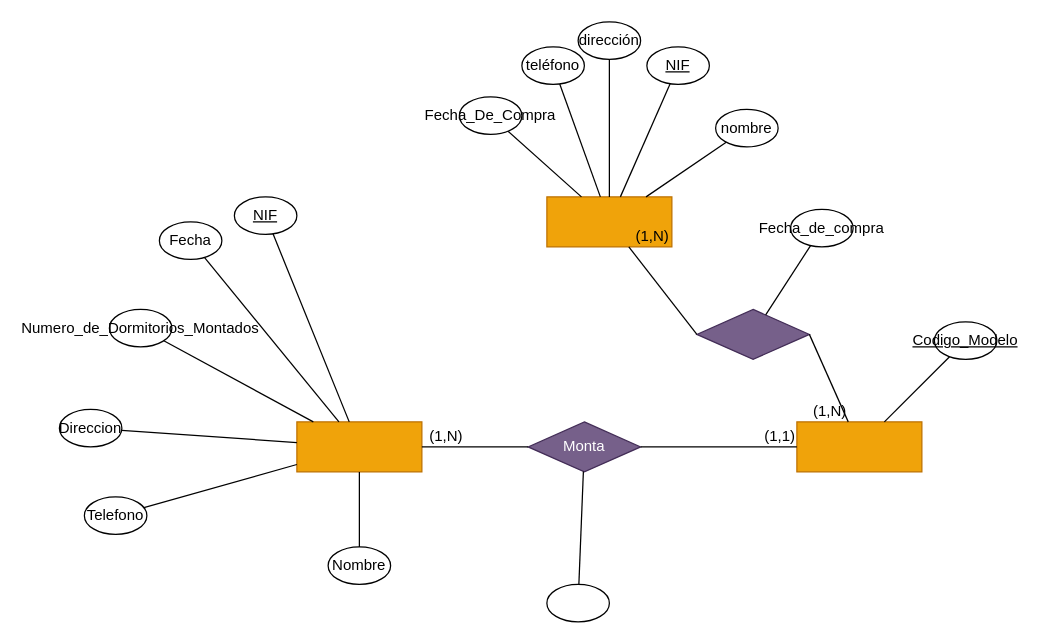
Image size: 1039x644. Some labels were removed from this diagram. The box of each missing label's shape, as (x1, y1, x2, y2) in pixels:
Cliente: (546, 196, 672, 247)
Compra: (696, 308, 809, 359)
Diferentes_Fechas: (546, 583, 609, 622)
Dormitorio: (796, 421, 922, 472)
Montador: (296, 421, 422, 472)
